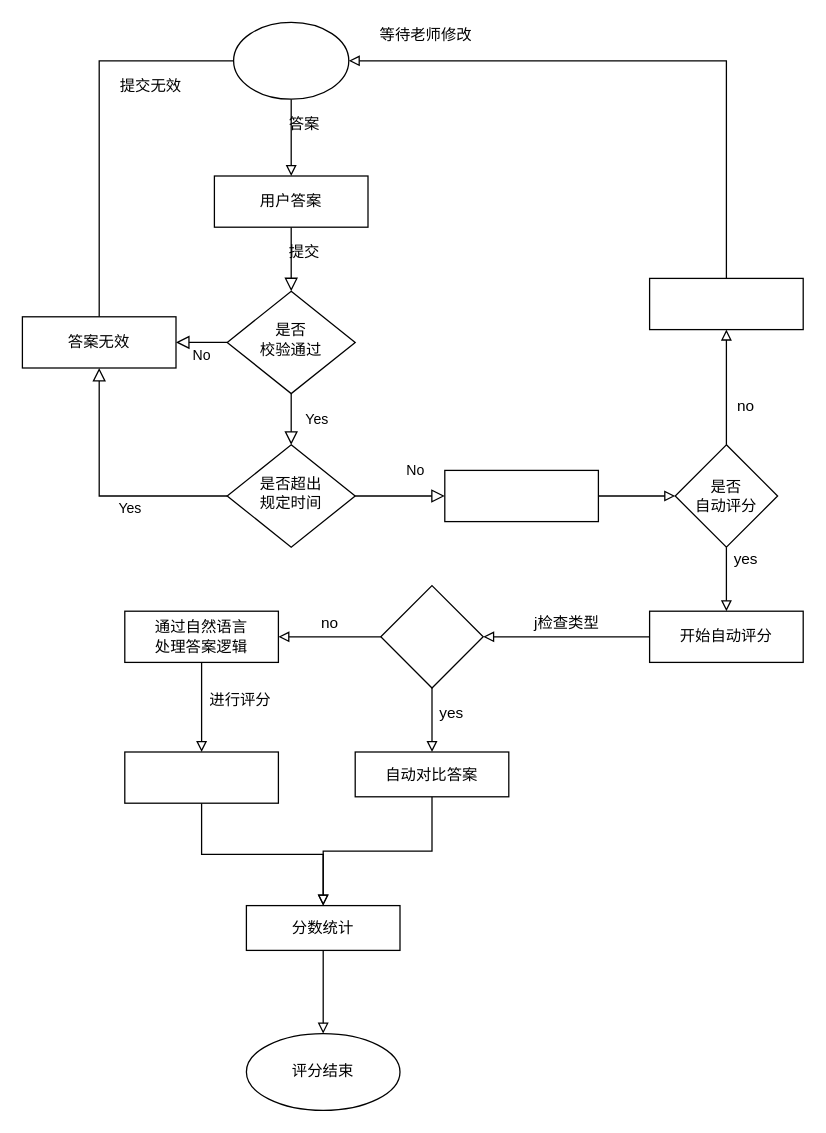
Image size: 826x1133. Some labels were removed from this diagram. The centre of each missing label's shape, as x and y in pixels:
"得出该内容分数" belongs at point 201,777.
"是否 选择题， 填空题" belongs at point 431,636.
"用户" belongs at point 290,60.
"答案保存， 等待老师批改" belongs at point 725,303.
"解析答案" belongs at point 521,495.
